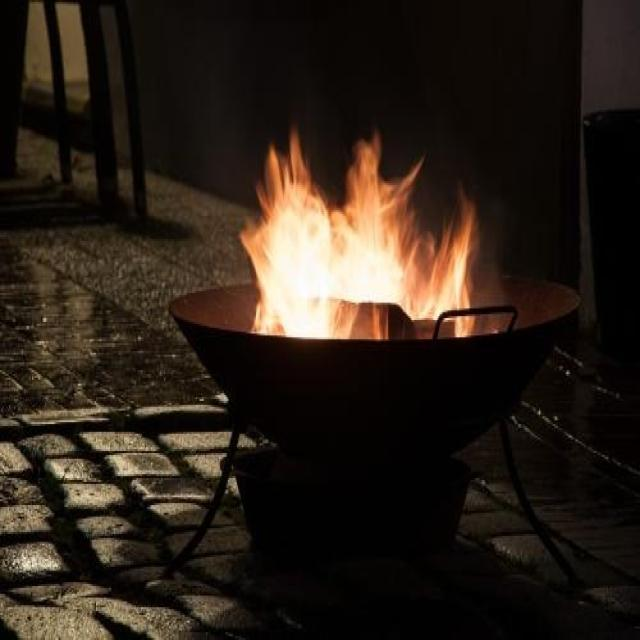Fire: (235, 122, 475, 340)
